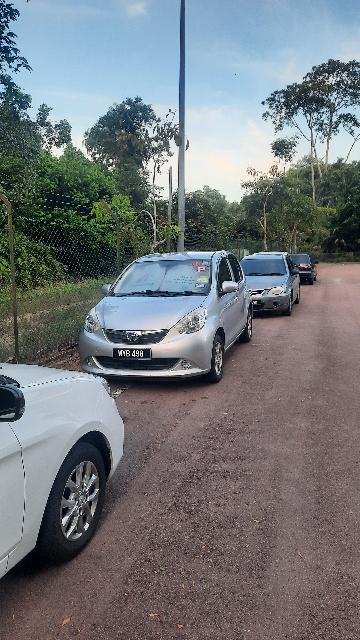License_Plate: (112, 348, 154, 362)
car: (80, 251, 257, 388)
